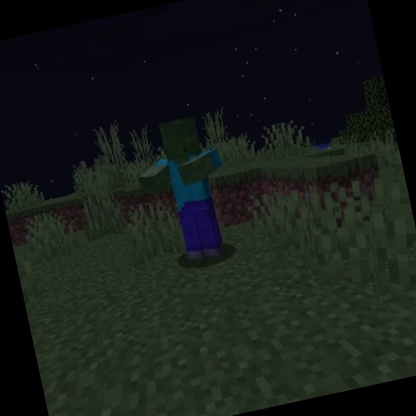zombie: (124, 107, 247, 276)
